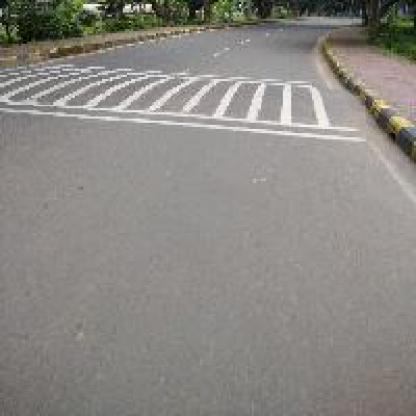Speed Bump: (0, 54, 370, 144)
